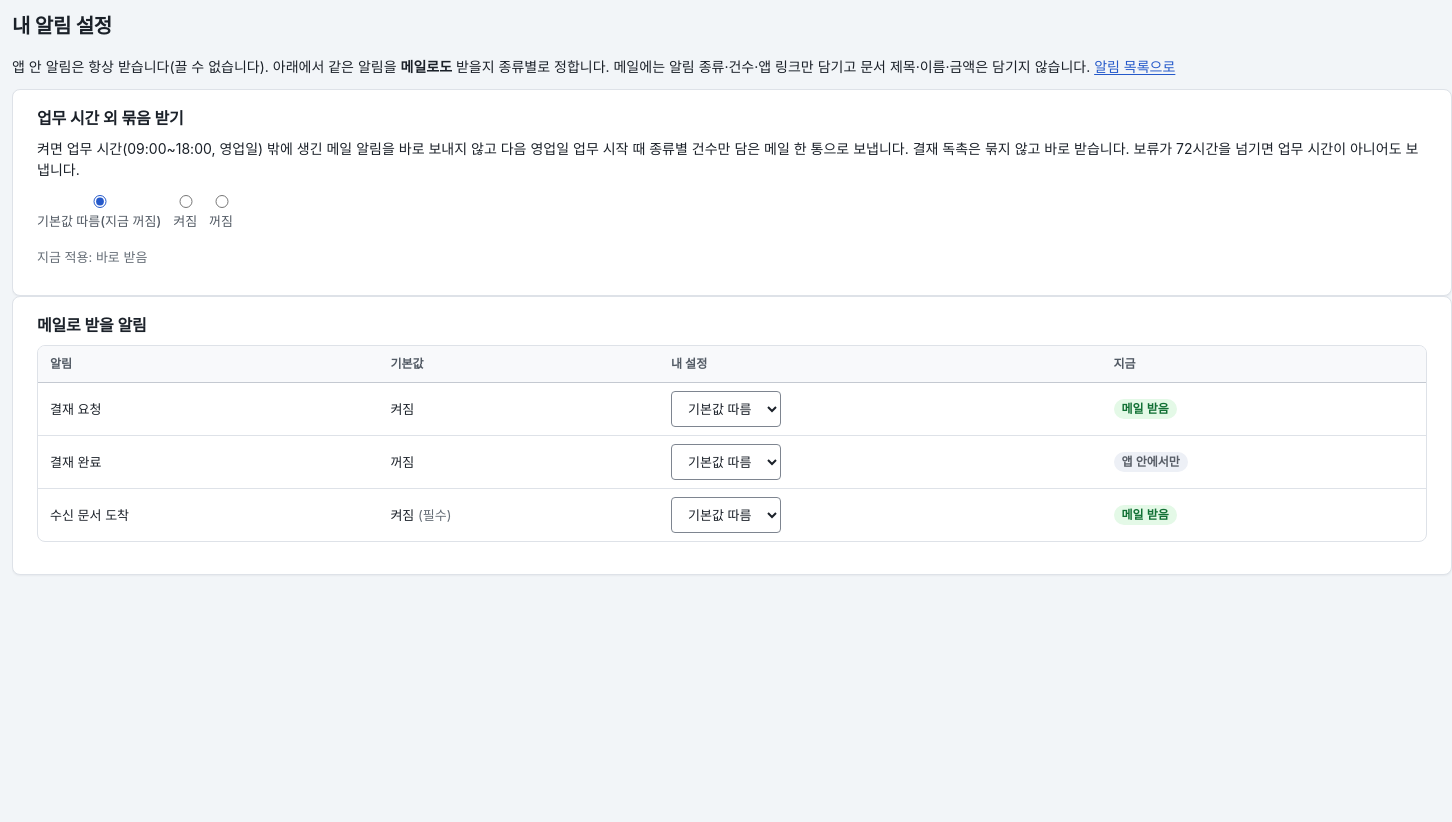
it: 내 알림 설정 › 종류별 설정을 바꾸면 PUT 하고 다시 읽는다
Select "켜짐" in the dropdown named "결재 완료 메일". click: (726, 462)
box: left=671, top=444, right=781, bottom=480
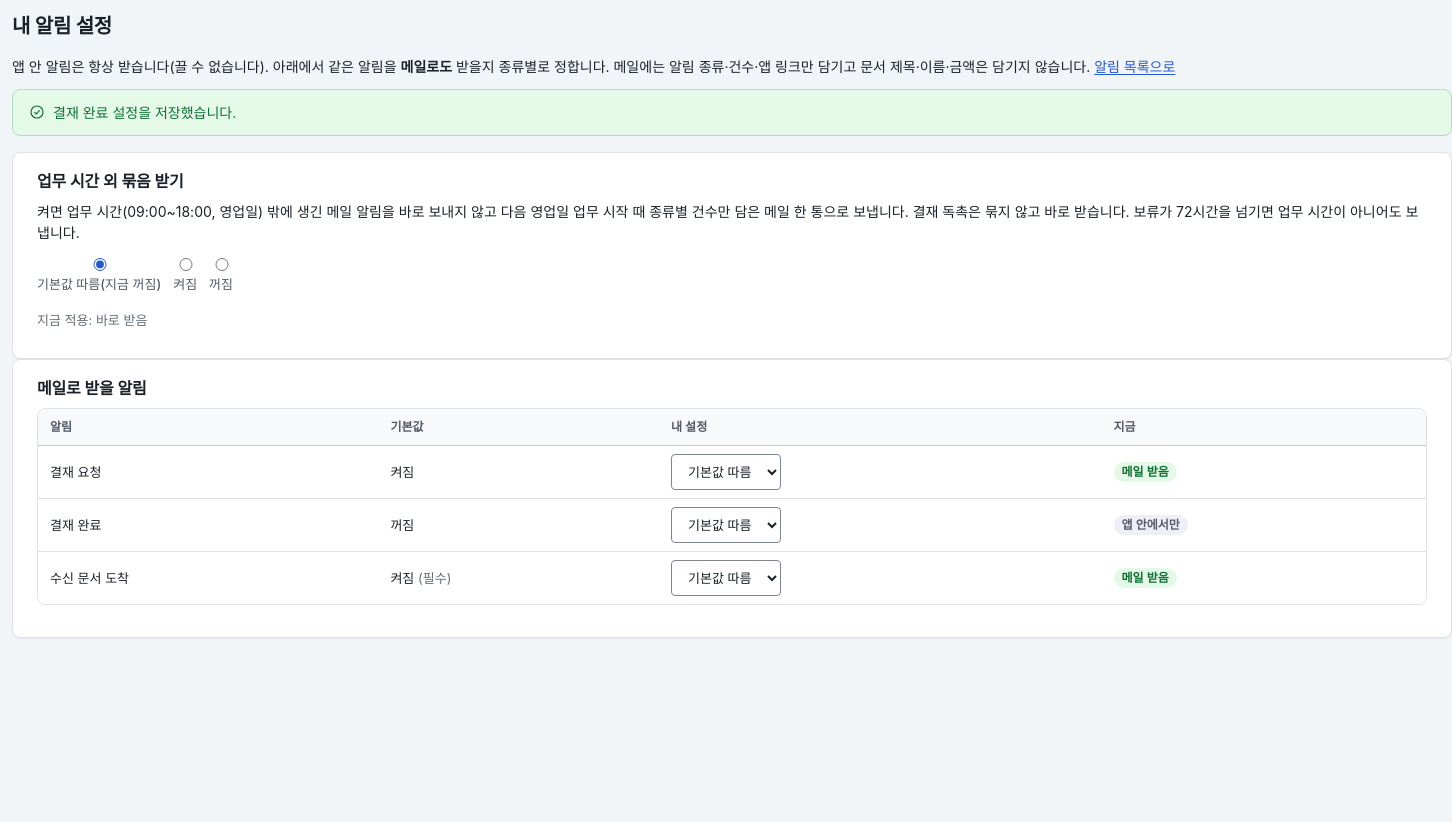
Result: the text "결재 완료 설정을 저장했습니다." is shown at left=53, top=102, right=236, bottom=123
